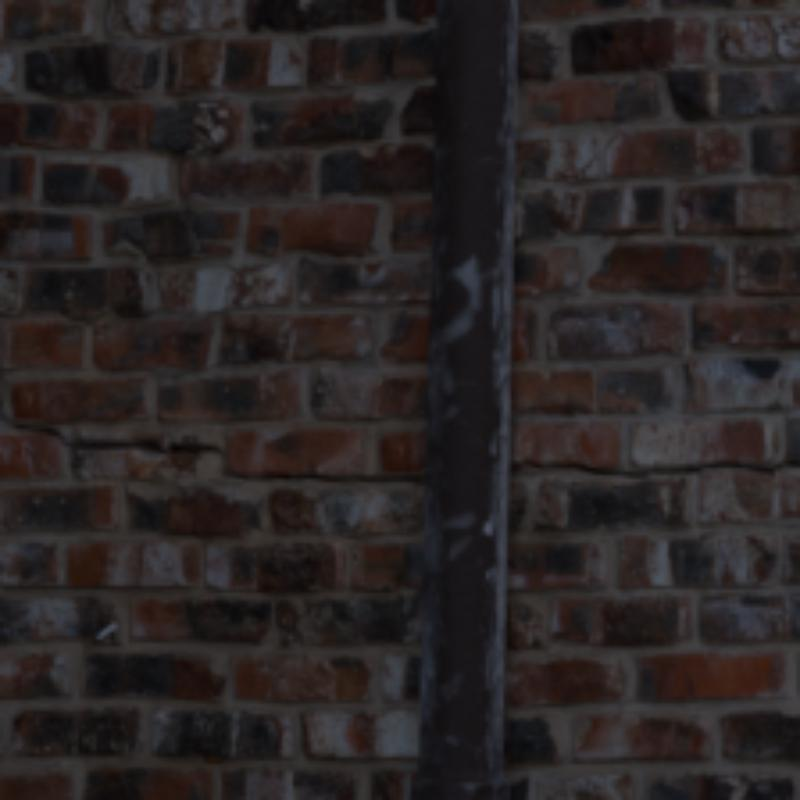pothole: (0, 411, 221, 464), (507, 457, 796, 475), (221, 464, 425, 482)
